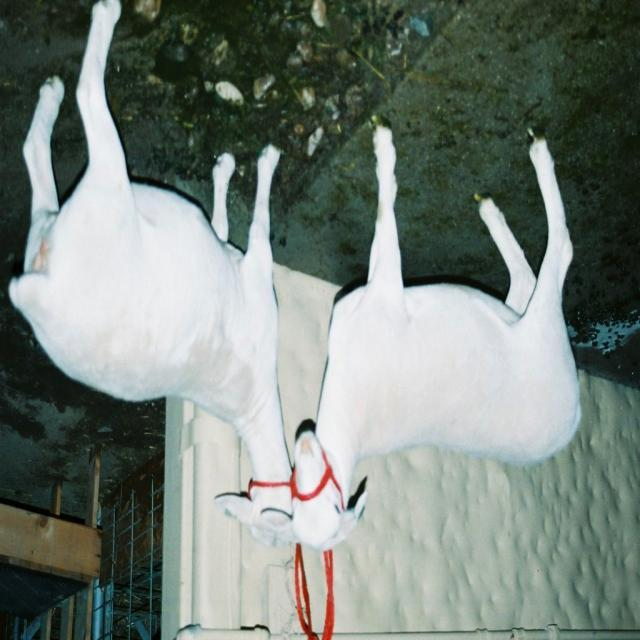Goat: (9, 2, 295, 549), (288, 120, 583, 555)
